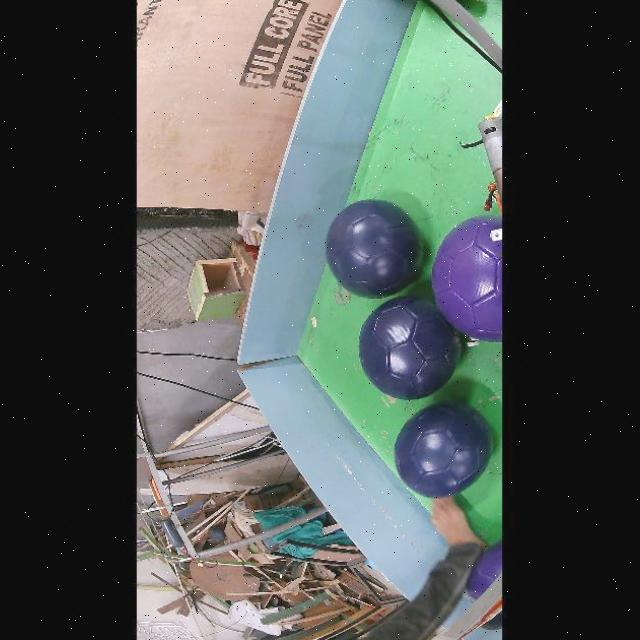B: (357, 296, 460, 399), (324, 200, 422, 299), (393, 402, 492, 498)
P: (431, 216, 501, 342), (465, 541, 501, 599)
